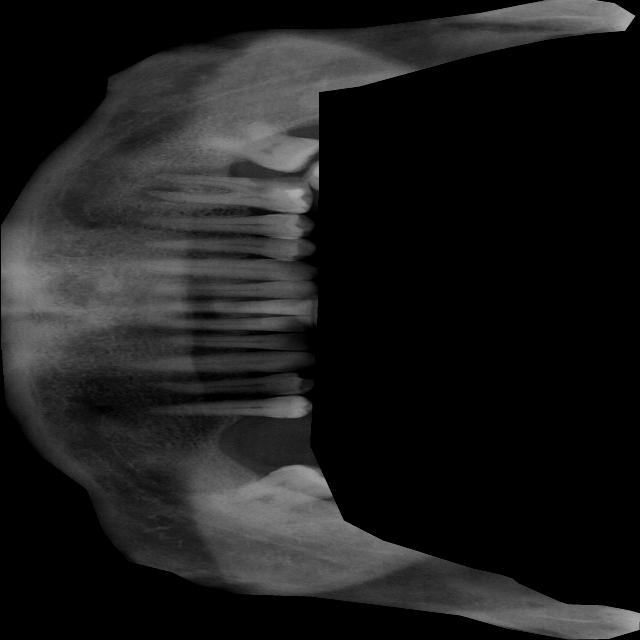mandibula: (0, 0, 640, 640)
